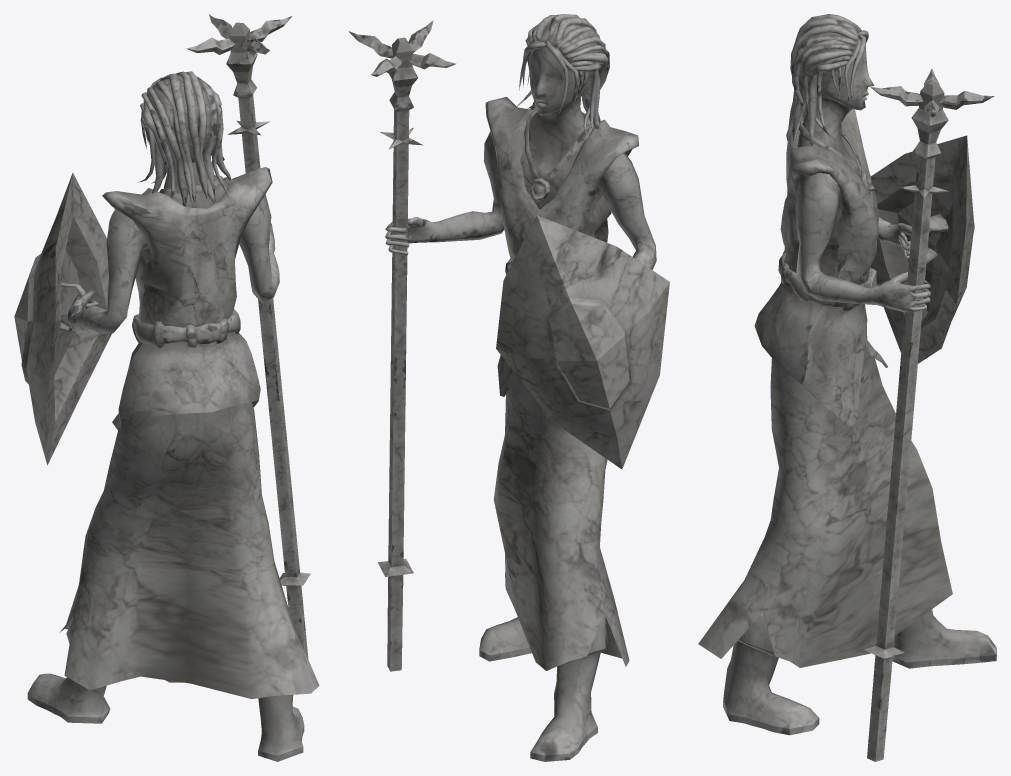
The model's file is statue_hero_battlemage.fbx.
3 views of the same model, side by side, from view 1: azimuth 30°, elevation 25°; view 2: azimuth 150°, elevation 25°; view 3: azimuth 270°, elevation 25° (orthographic).
Parts seen in each view (by area): view 1: statue_hero_battlemage; view 2: statue_hero_battlemage; view 3: statue_hero_battlemage.
Part boxes in pixels (bbox=[...]): statue_hero_battlemage: bbox=[14, 14, 319, 761]; statue_hero_battlemage: bbox=[348, 14, 669, 761]; statue_hero_battlemage: bbox=[698, 14, 996, 761].
Bounding box in the file's own units: 88.1 × 200 × 80.8.
